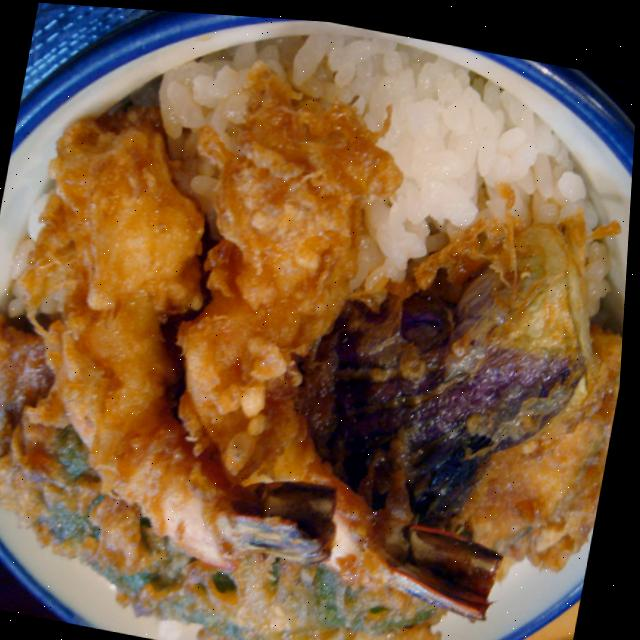汤锅炖物: (0, 493, 24, 609)
熟制海鲜: (0, 0, 640, 640)
